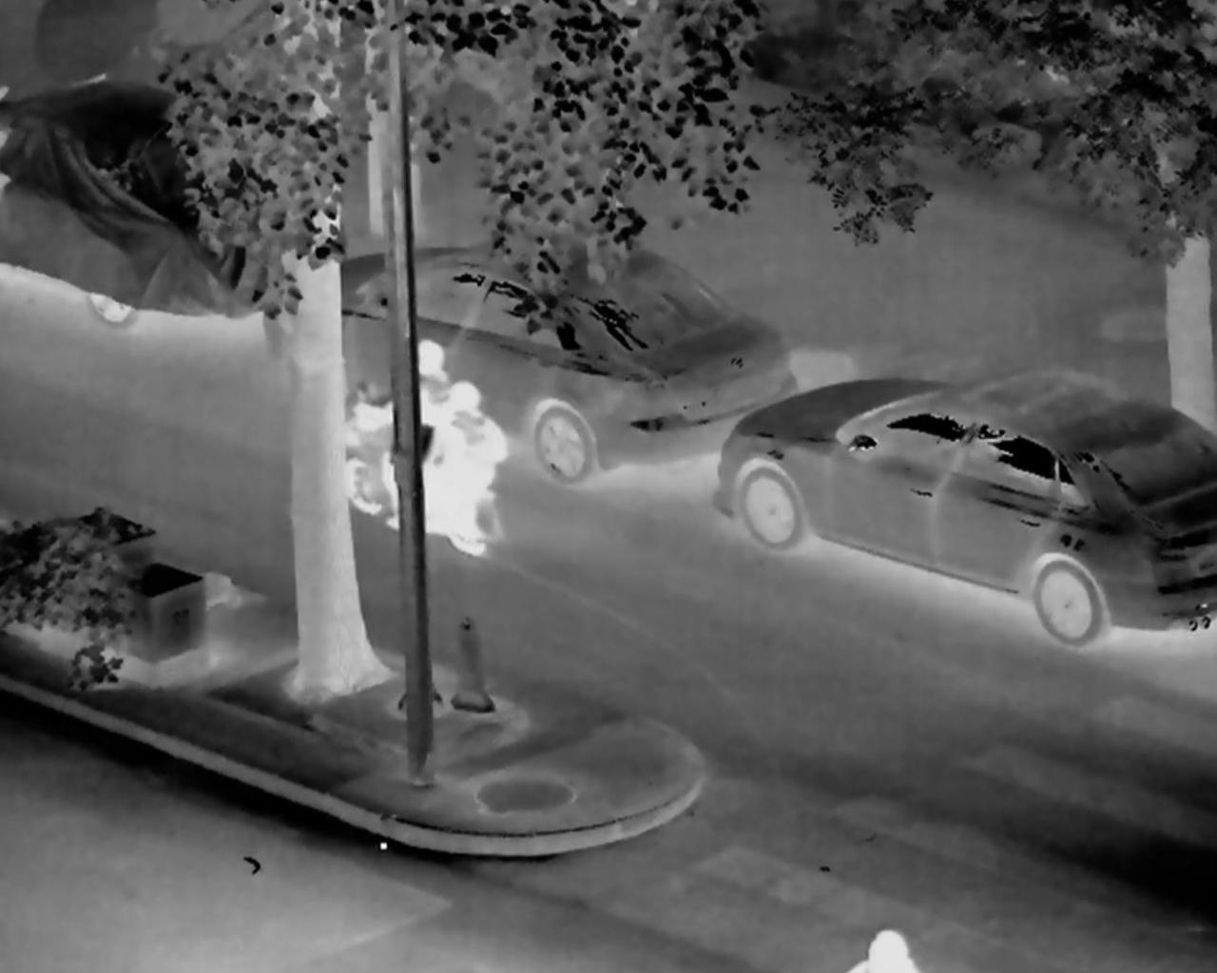person: (354, 334, 452, 536), (418, 378, 483, 517), (821, 907, 933, 973)
